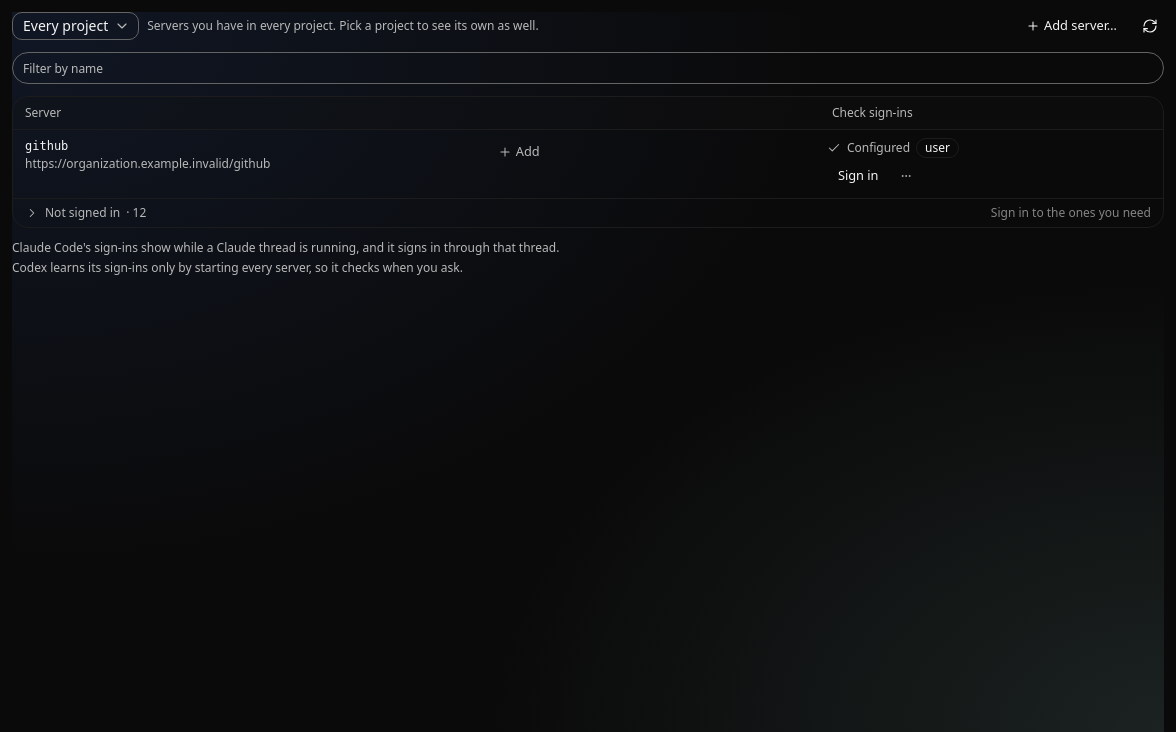
Test case: ConnectorsSettings › folds a catalogue nobody signed in to, and finds a server by name
Check: the button "Not signed in · 12 Sign in to the ones you need" is shown, box top-left (13, 198), bottom-right (1163, 227)
Type "platform-7" into the search field named "Filter connectors" at {"x": 588, "y": 68}, box top-left (12, 52), bottom-right (1164, 84)
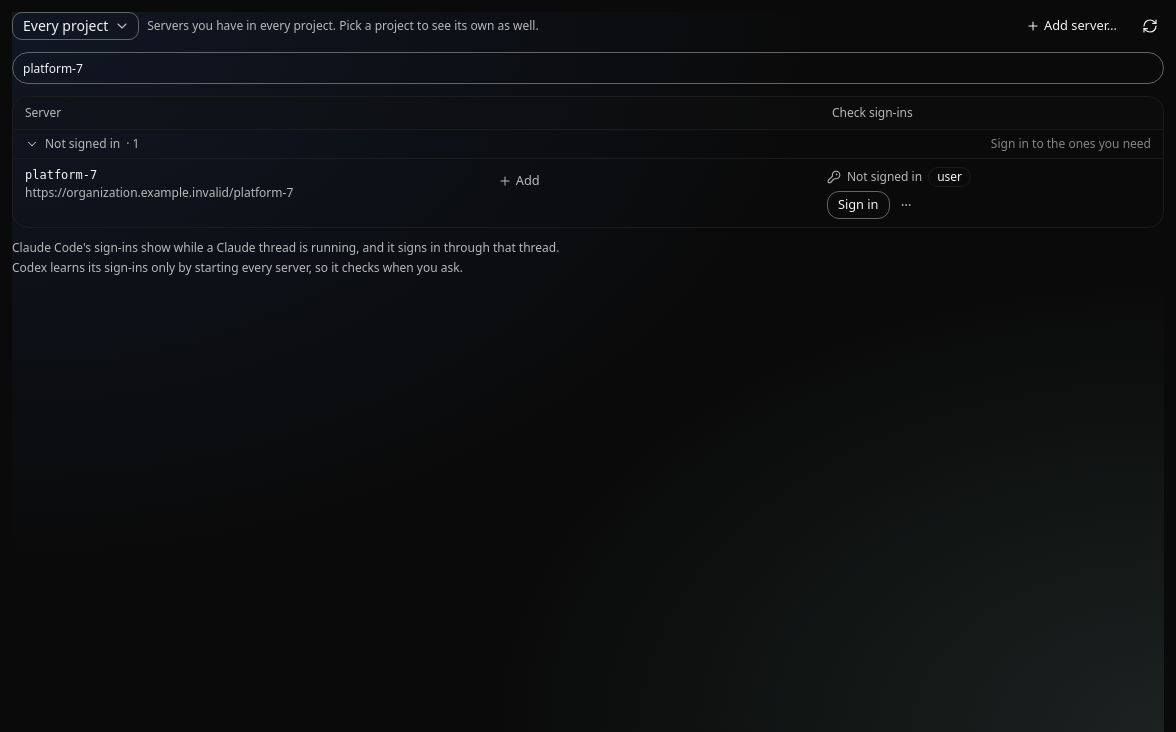
Check: the number of rows with test id "configured-connector" is 1, box top-left (13, 158), bottom-right (1163, 227)
Check: the button "Not signed in · 1 Sign in to the ones you need" is expanded, box top-left (13, 129), bottom-right (1163, 158)
